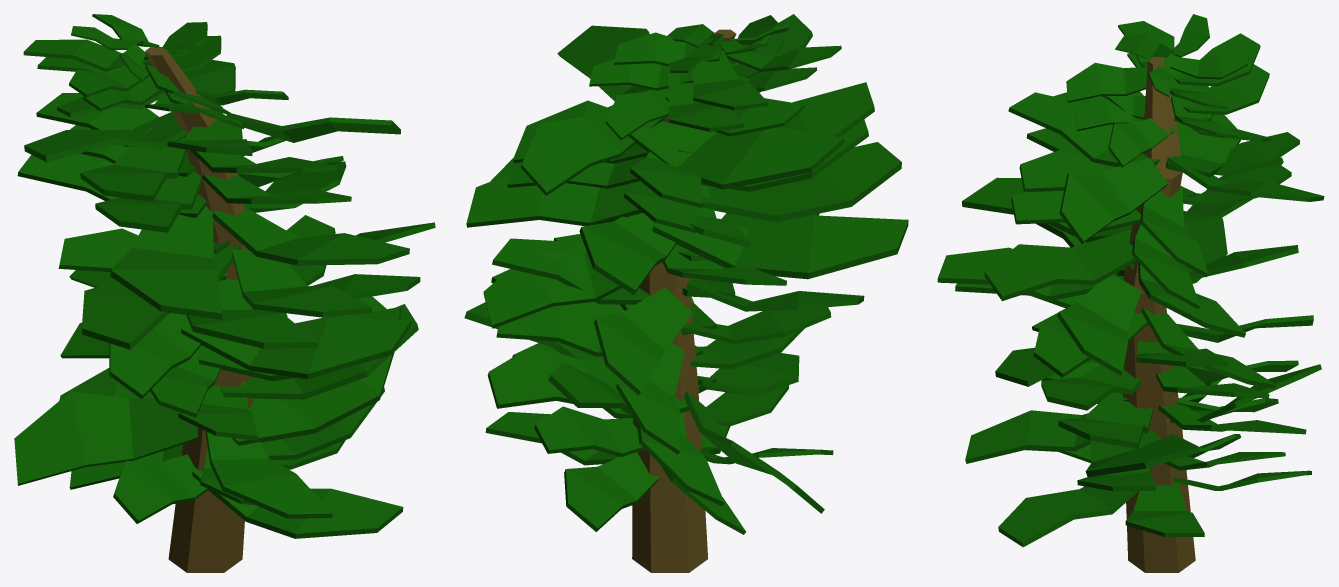
Rendered from polytree1.fbx.
3 renders of one model, left to right at view 1: azimuth 30°, elevation 25°; view 2: azimuth 150°, elevation 25°; view 3: azimuth 270°, elevation 25°, orthographic. The views are drawn at different scales.
Parts seen in each view (by area): view 1: Plane.009, Cylinder.006, Plane.035, Plane.023, Plane.010, Plane.032, Plane.011, Plane.028, Plane.003, Plane.031, Plane.027, Plane.022 (+42 smaller); view 2: Plane.031, Cylinder.006, Plane.047, Plane.035, Plane.033, Plane.021, Plane.046, Plane.025, Plane.030, Plane.001, Plane.012, Plane.004 (+41 smaller); view 3: Cylinder.006, Plane.032, Plane.045, Plane.029, Plane.003, Plane.010, Plane.044, Plane.015, Plane.011, Plane.041, Plane, Plane.019 (+40 smaller).
Boxes of the visible parts, <box> form: Plane.009: <box>14,391,198,485</box>; Cylinder.006: <box>145,47,253,572</box>; Plane.035: <box>110,206,222,319</box>; Plane.023: <box>181,316,411,378</box>; Plane.010: <box>205,431,332,518</box>; Plane.032: <box>212,208,409,265</box>; Plane.011: <box>232,296,394,445</box>; Plane.028: <box>232,249,371,317</box>; Plane.003: <box>192,468,403,538</box>; Plane.031: <box>81,245,240,349</box>; Plane.027: <box>186,278,317,348</box>; Plane.022: <box>109,312,201,399</box>; Plane.031: <box>652,215,908,279</box>; Cylinder.006: <box>632,29,736,572</box>; Plane.047: <box>628,121,844,189</box>; Plane.035: <box>702,142,901,222</box>; Plane.033: <box>466,173,642,227</box>; Plane.021: <box>594,287,692,395</box>; Plane.046: <box>521,91,664,195</box>; Plane.025: <box>483,252,621,328</box>; Plane.030: <box>579,213,676,294</box>; Plane.001: <box>564,452,659,531</box>; Plane.012: <box>487,346,620,408</box>; Plane.004: <box>534,406,644,456</box>; Cylinder.006: <box>1123,57,1195,572</box>; Plane.032: <box>984,229,1136,301</box>; Plane.045: <box>1059,157,1167,243</box>; Plane.029: <box>1057,274,1141,375</box>; Plane.003: <box>998,486,1137,547</box>; Plane.010: <box>965,410,1090,463</box>; Plane.044: <box>1008,92,1160,166</box>; Plane.015: <box>1058,392,1152,448</box>; Plane.011: <box>1085,430,1200,477</box>; Plane.041: <box>1140,186,1208,277</box>; Plane: <box>1125,482,1204,536</box>; Plane.019: <box>1041,364,1141,410</box>.
Size of the model in its own units: 1483 by 2073 by 1470.
